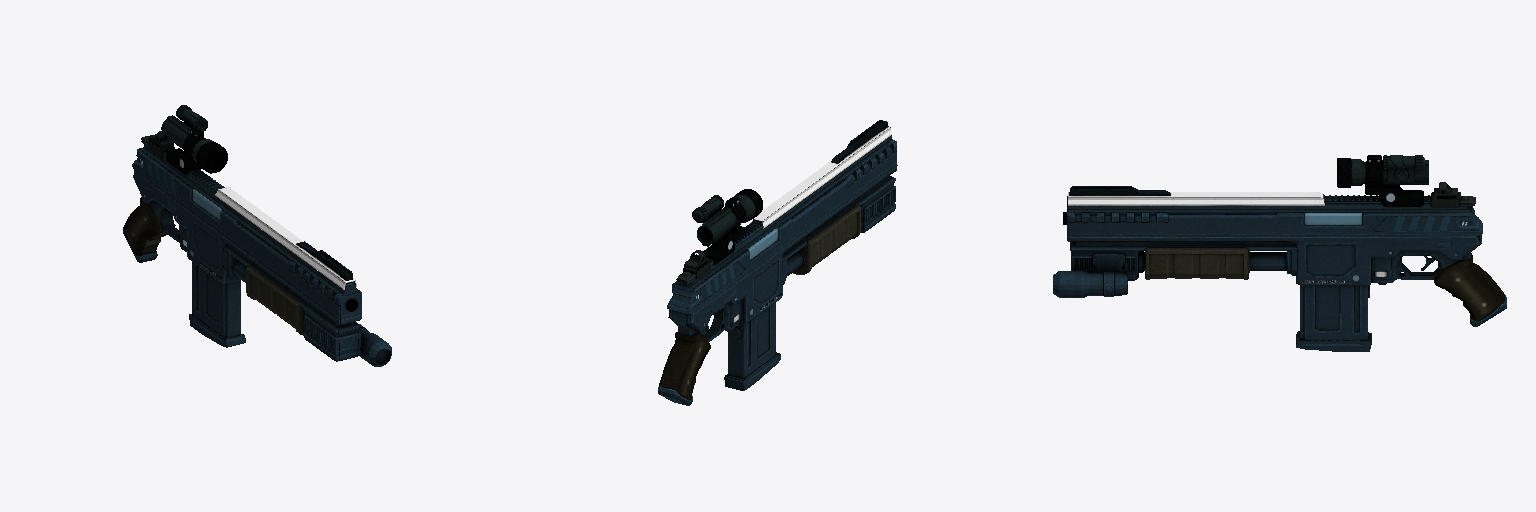
3 renders of one model, left to right at view 1: azimuth 30°, elevation 25°; view 2: azimuth 150°, elevation 25°; view 3: azimuth 270°, elevation 25°, orthographic.
Visible parts, largest first — view 1: 3DSMesh_0_0; view 2: 3DSMesh_0_0; view 3: 3DSMesh_0_0.
Boxes of the visible parts, <box> form: 3DSMesh_0_0: <box>123,105,391,366</box>; 3DSMesh_0_0: <box>658,120,897,405</box>; 3DSMesh_0_0: <box>1053,155,1506,351</box>.
Bounding box in the file's own units: 0.2846 × 1.03 × 2.14.
Materials: 1 (1 with a texture image).